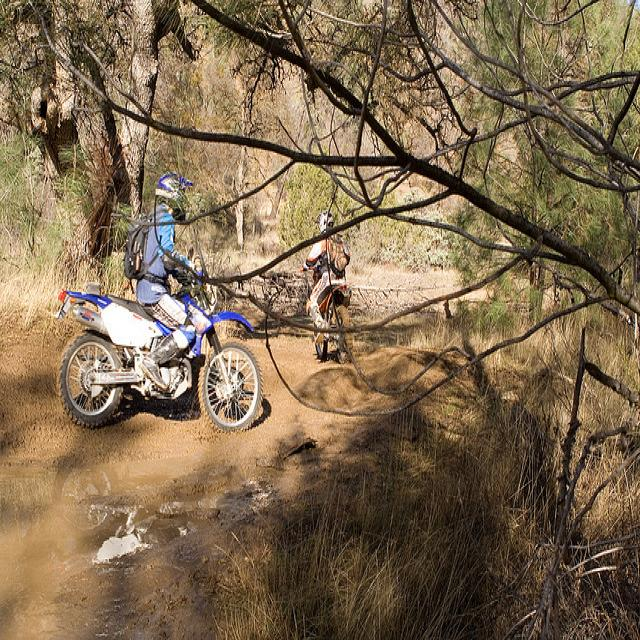motor: (52, 269, 265, 436)
